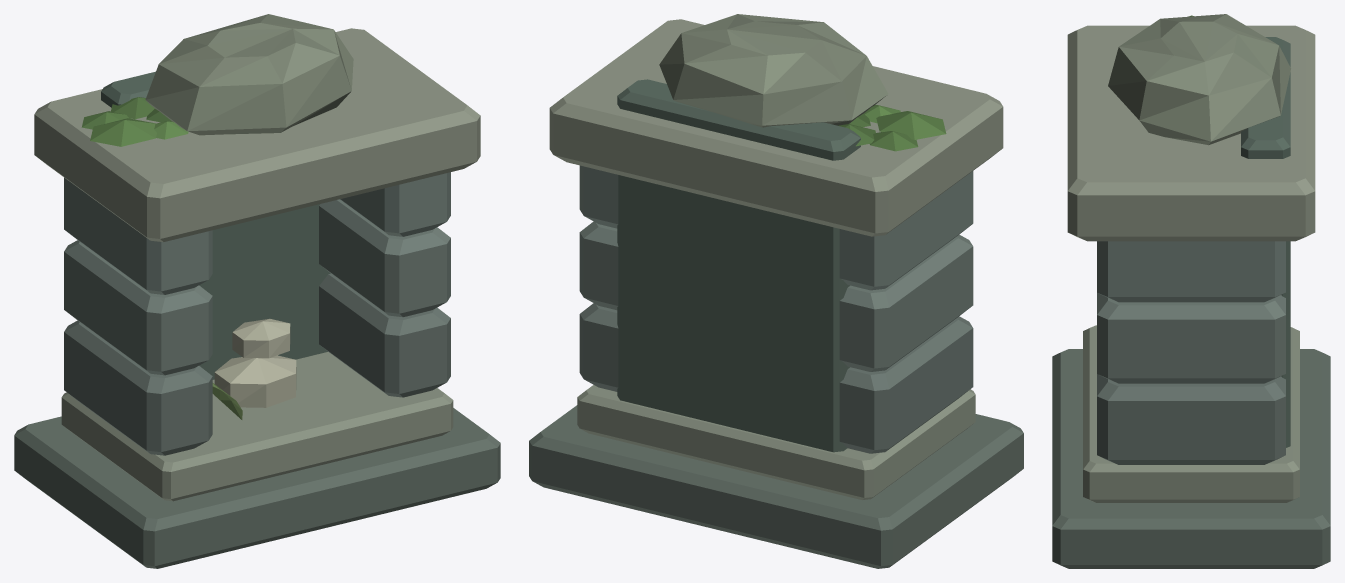
Rendered from forest_shrine.glb.
The picture shows the model from 3 angles, left to right: view 1: azimuth 30°, elevation 25°; view 2: azimuth 150°, elevation 25°; view 3: azimuth 270°, elevation 25°; orthographic projection.
Parts seen in each view (by area): view 1: geometry; view 2: geometry; view 3: geometry.
Part boxes in pixels (left/top/right/bottom): geometry: left=14, top=14, right=500, bottom=568; geometry: left=529, top=14, right=1023, bottom=568; geometry: left=1052, top=14, right=1330, bottom=568.
Bounding box in the file's own units: 1.35 × 1.58 × 0.9.
